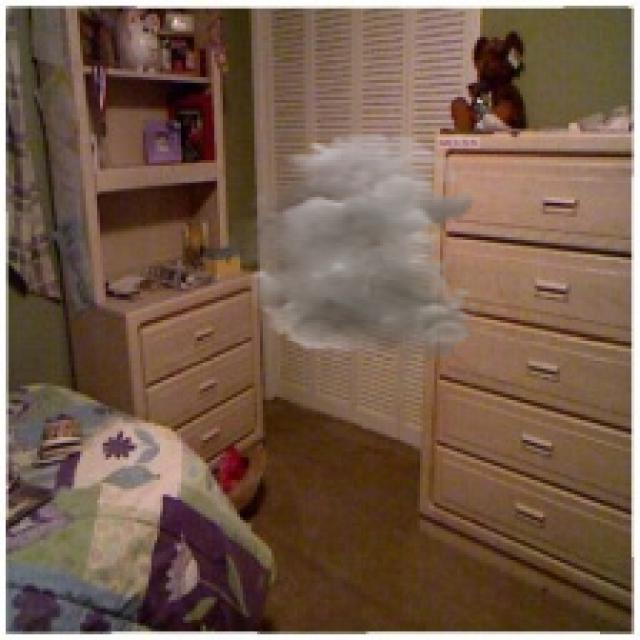smoke: (217, 131, 483, 363)
